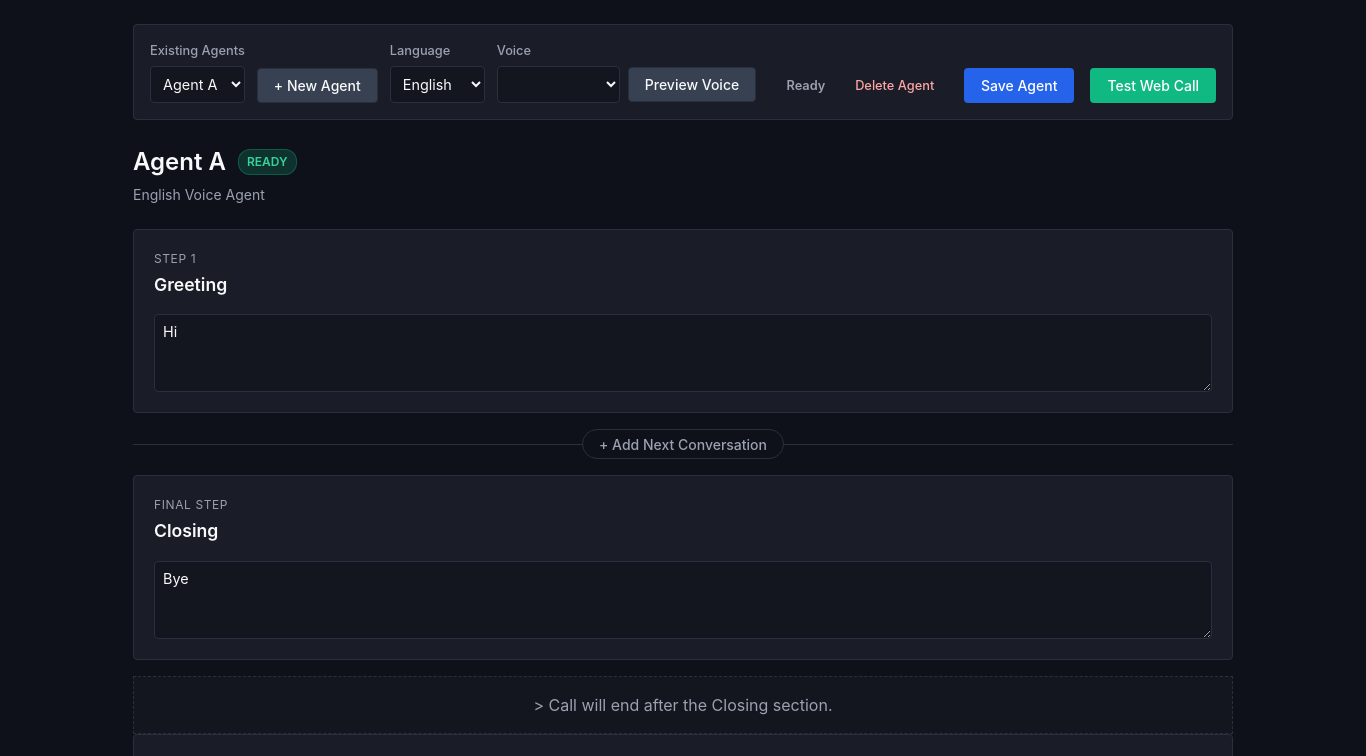
Test: VoiceSystemPage › can delete an agent and load the next one or empty state
Click the button "Delete Agent" at (895, 85), box [841, 70, 948, 100]
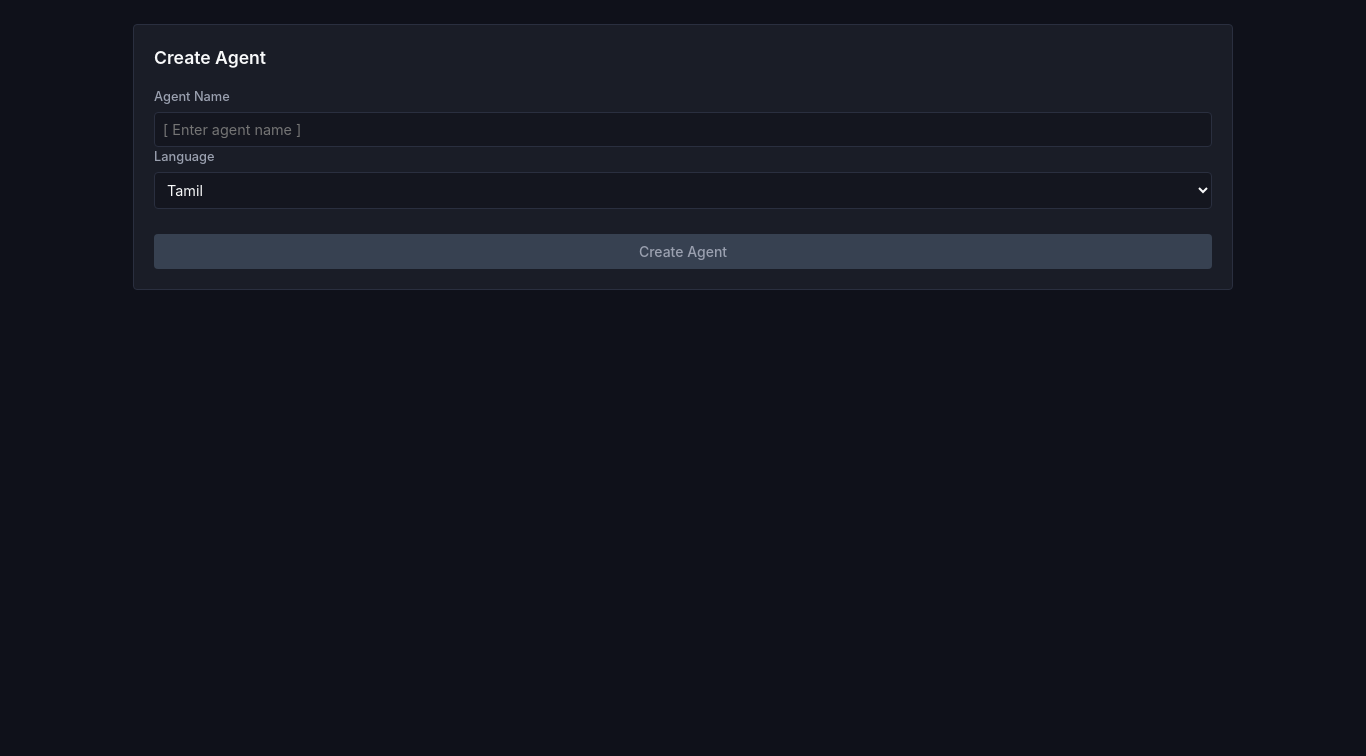
Check: the heading "Create Agent" is shown, box [154, 47, 266, 68]
